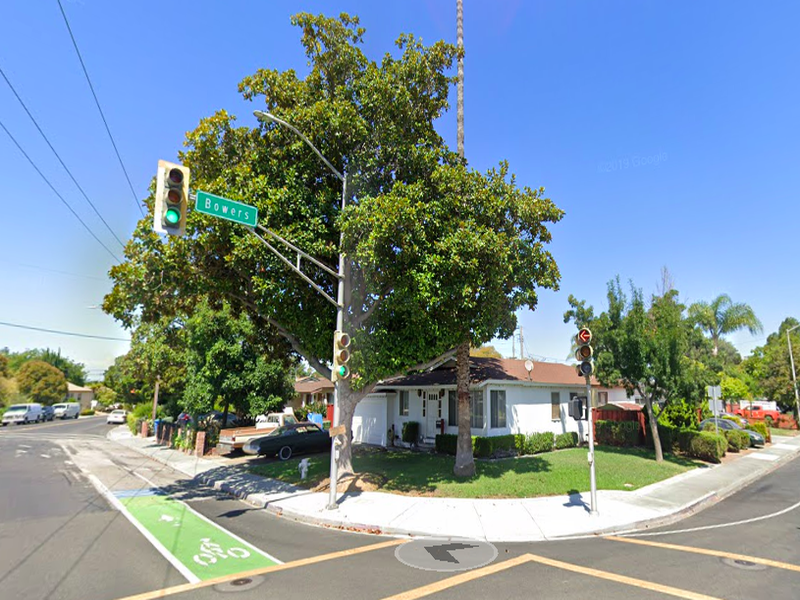tree: (150, 10, 566, 480), (375, 162, 566, 483)
